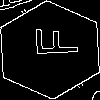F: (25, 25, 78, 58)
